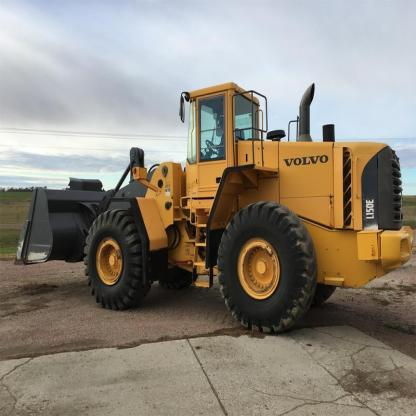bull_dozer/loader/grader: (16, 77, 404, 344)
